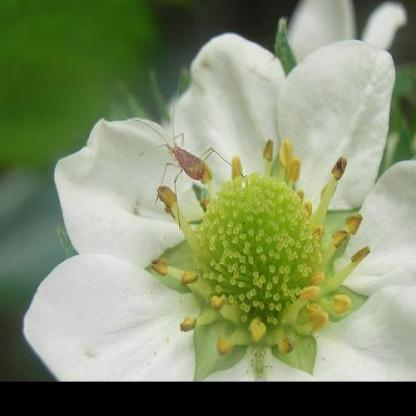aphid: (154, 115, 239, 202)
